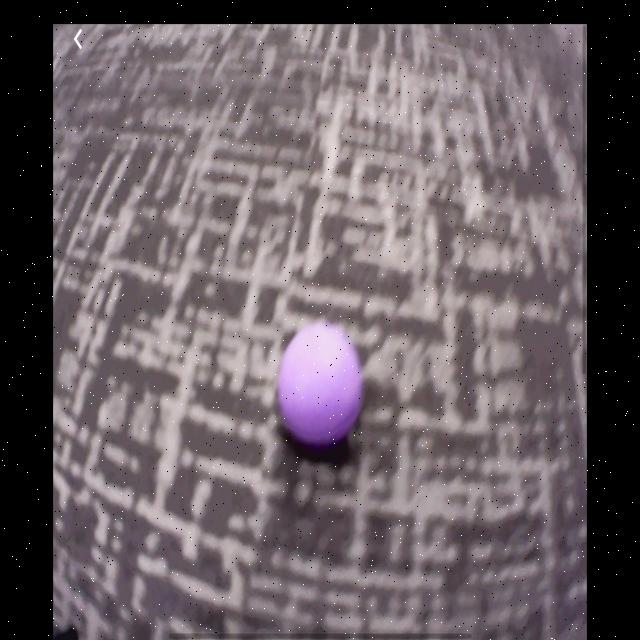ball: (273, 326, 364, 452)
